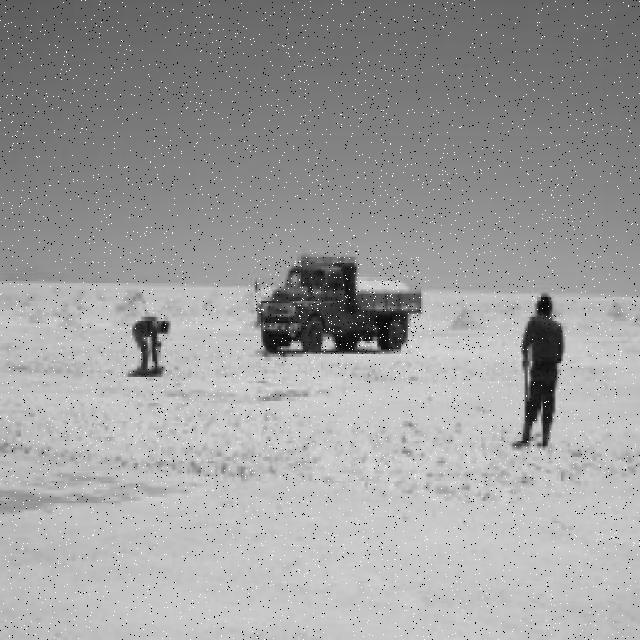Box Truck: (255, 257, 422, 353)
